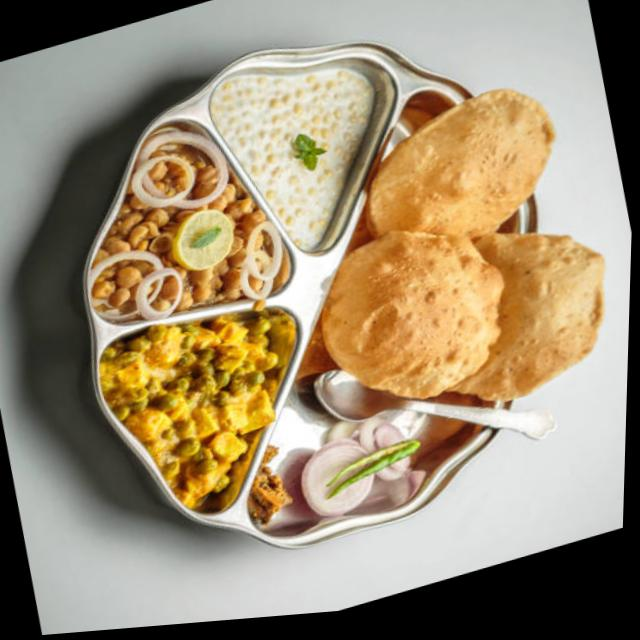CURD: (210, 66, 373, 248)
CURRY: (100, 307, 296, 509)
POORI: (321, 87, 605, 398)
SUNDAL: (93, 123, 289, 319)
